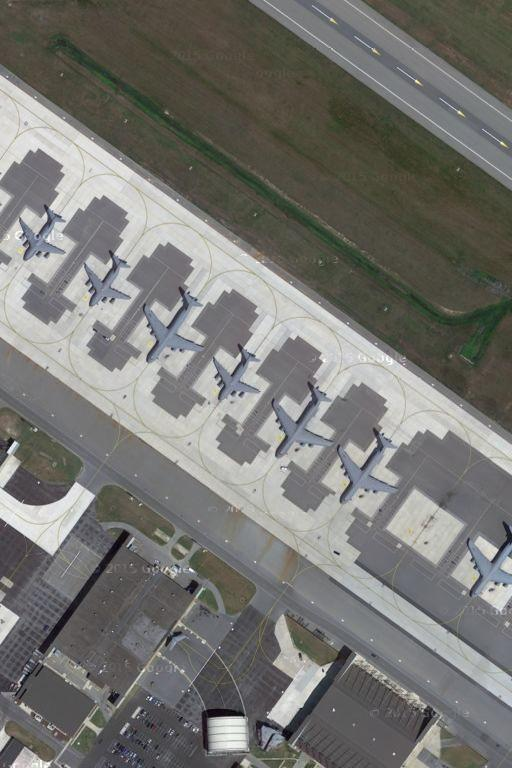C-17: (76, 249, 133, 311), (208, 344, 263, 404), (13, 203, 66, 265)
KC-135: (331, 428, 403, 505), (269, 380, 339, 459), (142, 282, 206, 367), (464, 516, 512, 606)
